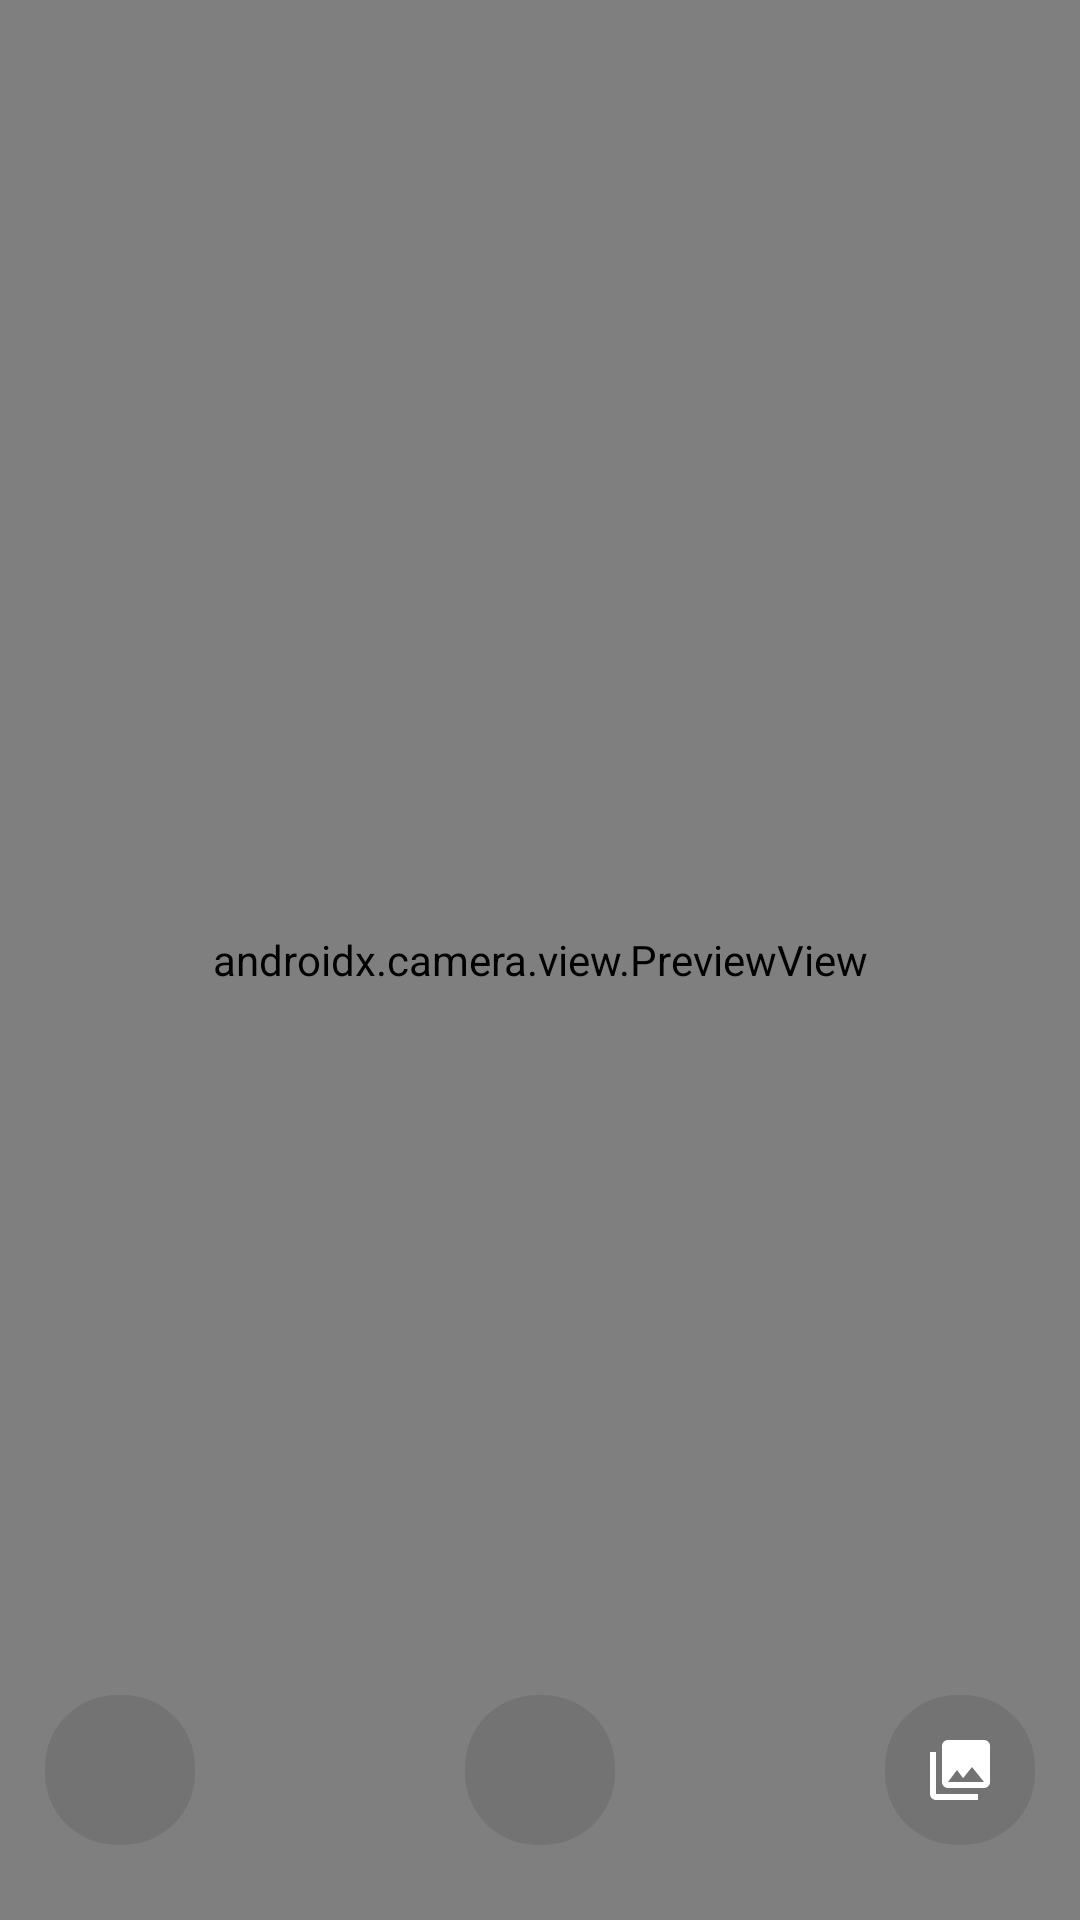

Where icons sit on this 1080 x 1920 app screen, as [x1, y1, x2, y2]:
Ver Fotos: [930, 1740, 990, 1800]
